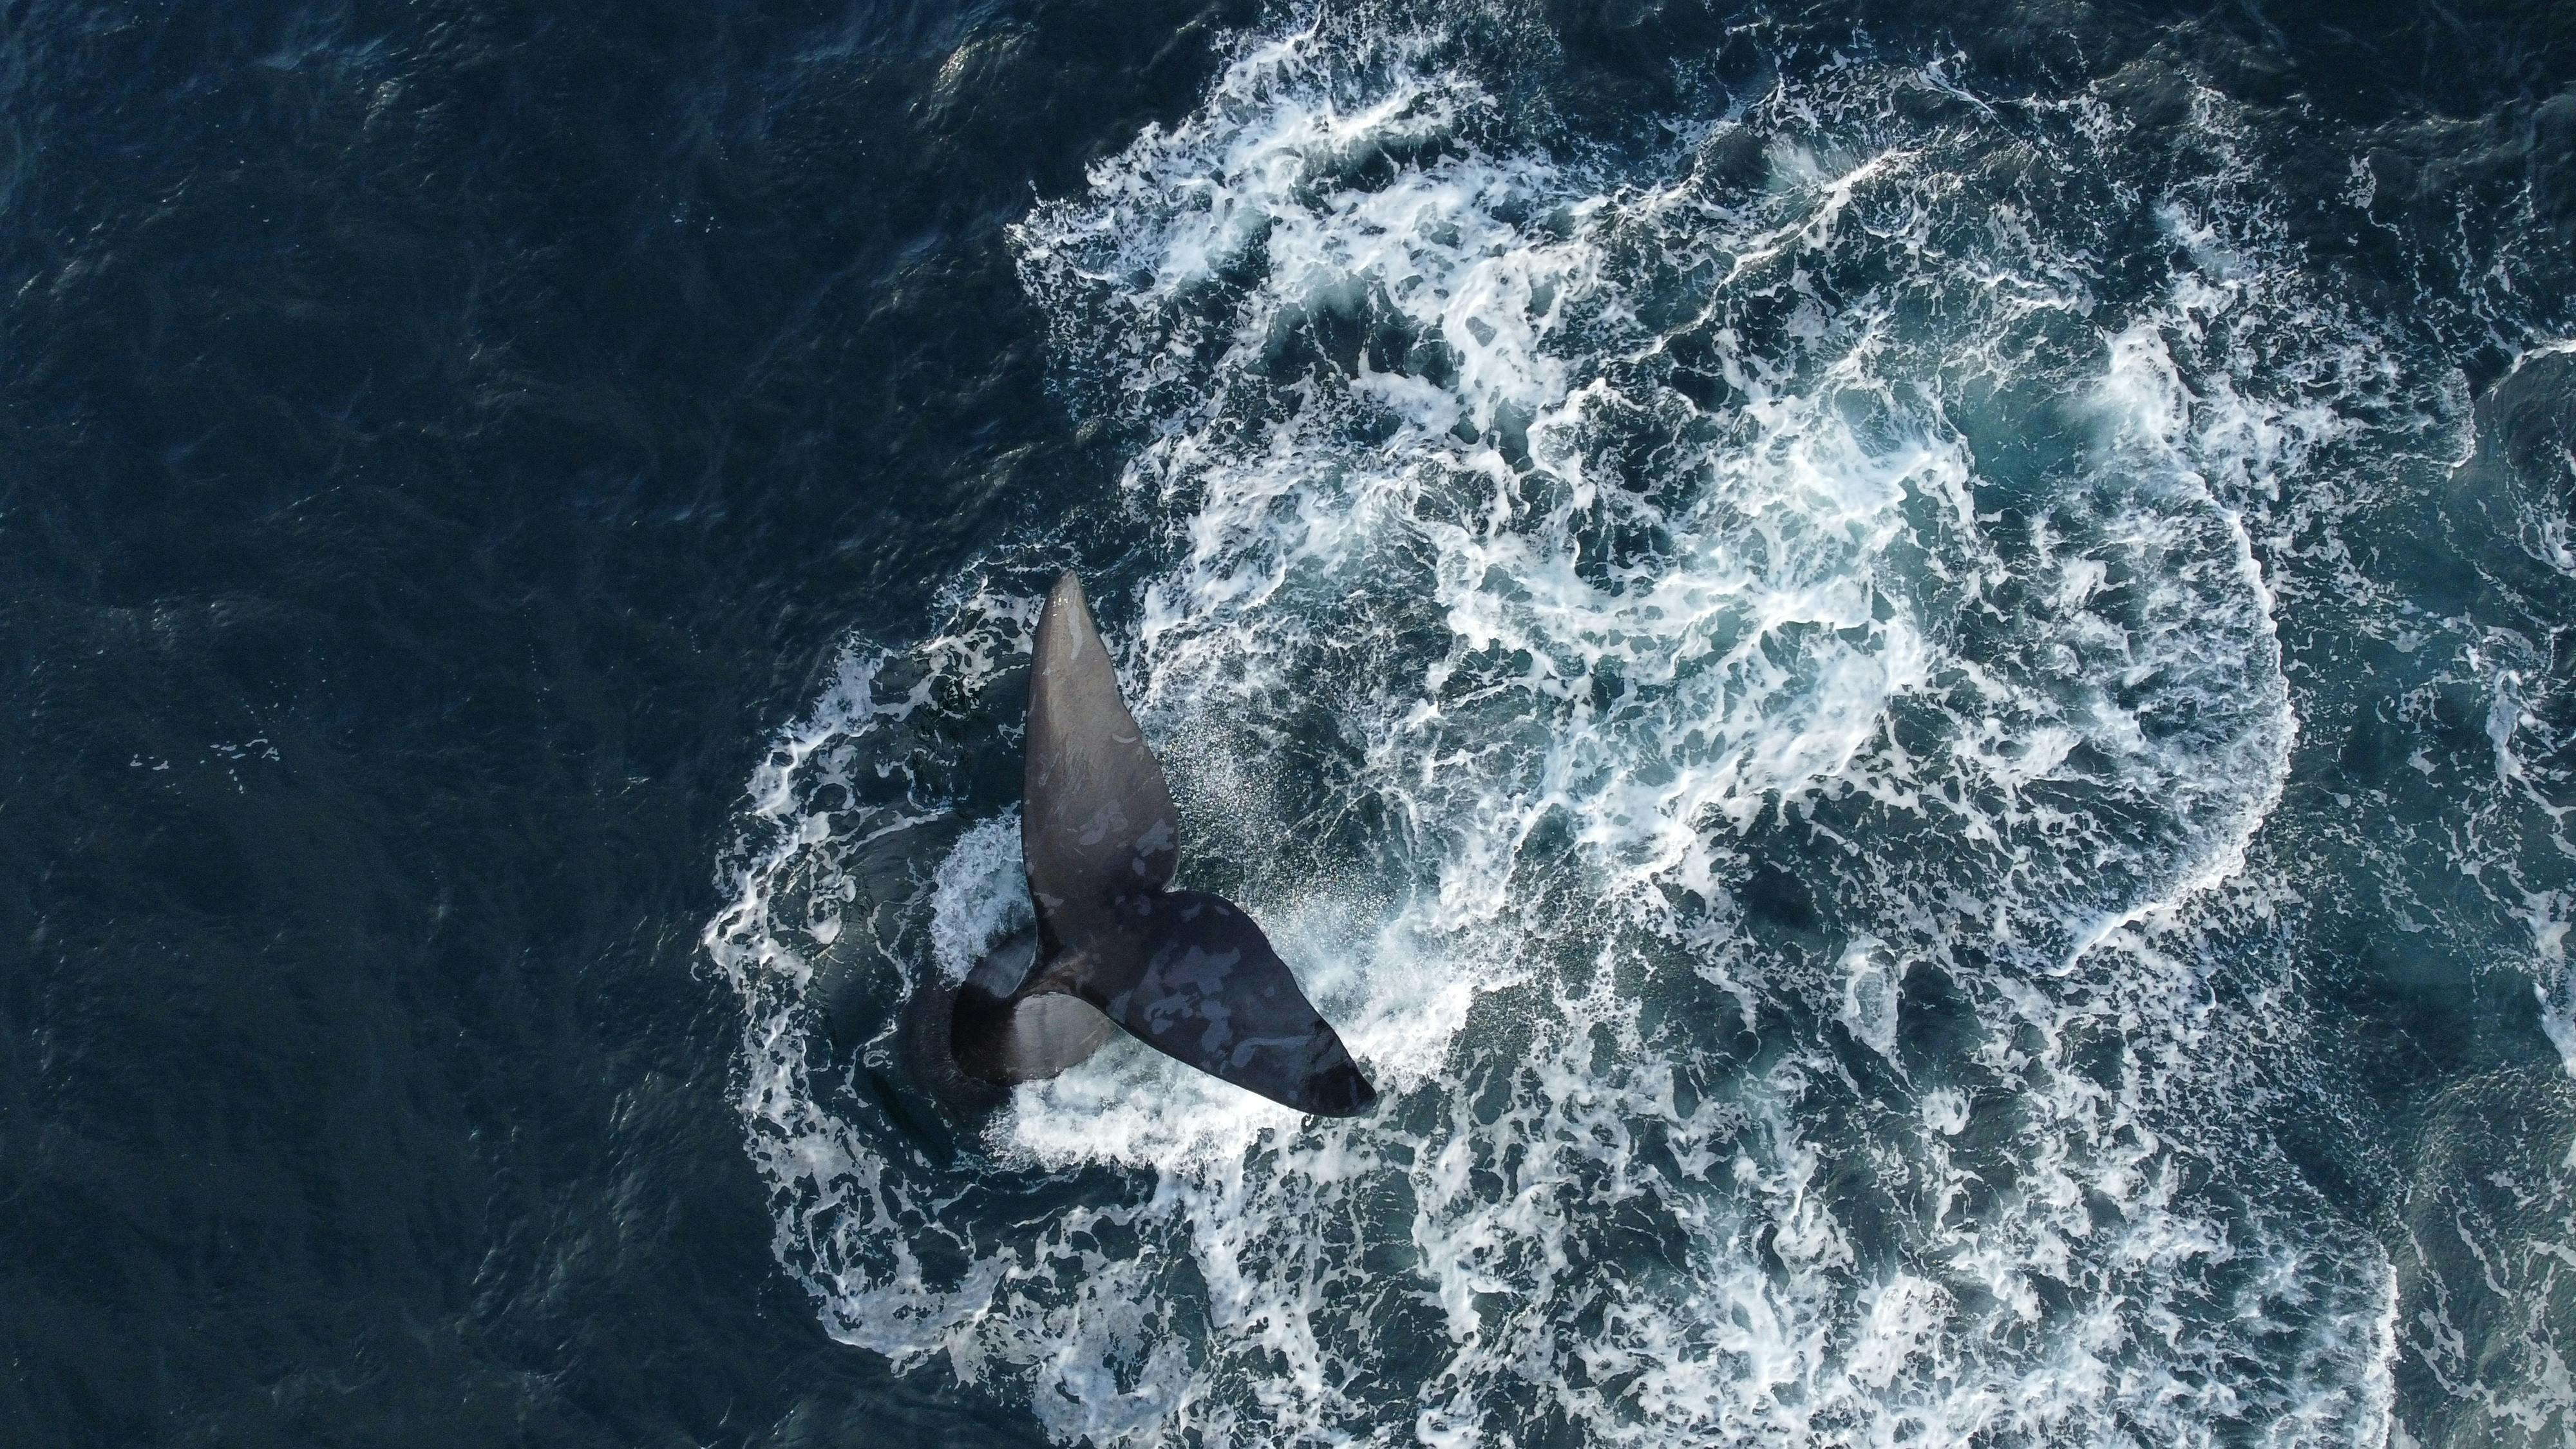whale: (943, 570, 1389, 1116)
